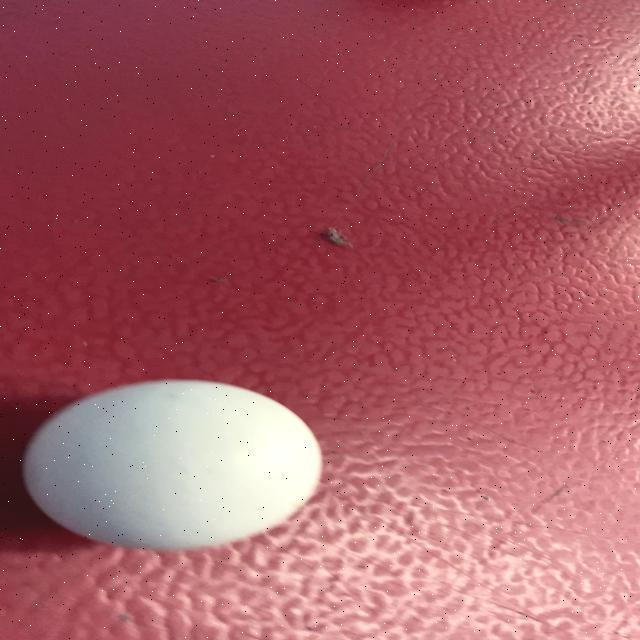ping-pong-ball: (8, 376, 328, 554)
